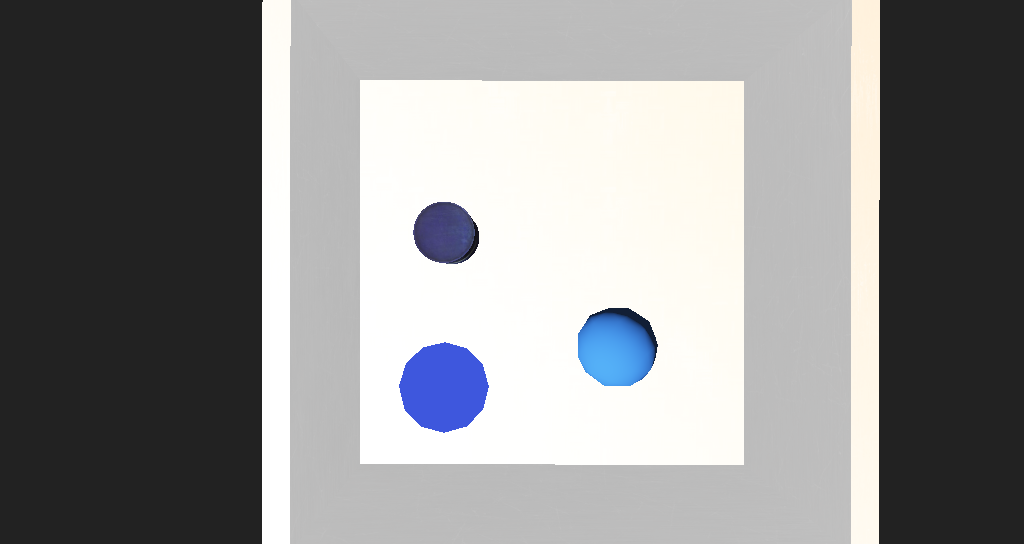cone: (397, 231, 451, 265)
cylinder: (374, 301, 461, 367)
sphere: (519, 289, 586, 332)
